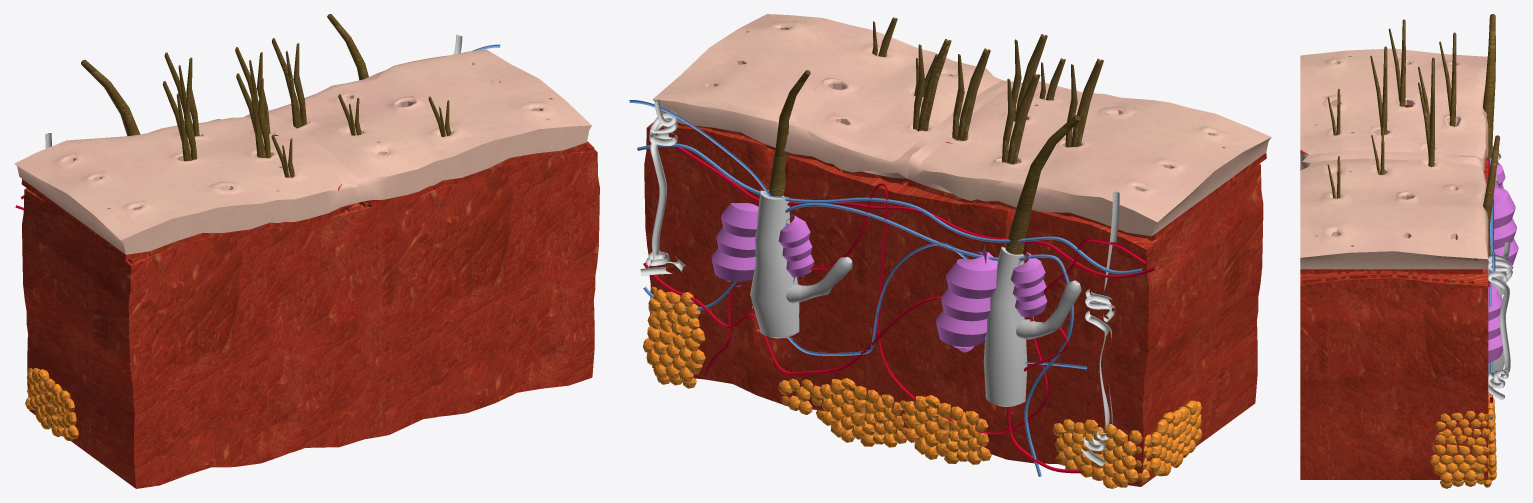
The picture shows the model from 3 angles, left to right: view 1: azimuth 30°, elevation 25°; view 2: azimuth 150°, elevation 25°; view 3: azimuth 270°, elevation 25°; orthographic projection. The views are drawn at different scales.
Parts seen in each view (by area): view 1: polySurface1, back_hair_woman1:polySurface1, polySurface5, polySurface4, polySurface3, pCylinder21, polySurface2, polySurface7, back_hair_woman1:pCylinder21; view 2: polySurface1, back_hair_woman1:polySurface1, pCylinder29, pCylinder23, pHelix1, back_hair_woman1:pHelix1, extrudedSurface2, back_hair_woman1:extrudedSurface1, extrudedSurface1, back_hair_woman1:extrudedSurface2, pCylinder21, back_hair_woman1:extrudedSurface6 (+13 smaller); view 3: back_hair_woman1:polySurface1, polySurface1, extrudedSurface2, pHelix1, pCylinder21, back_hair_woman1:pHelix1, polySurface2, polySurface5, back_hair_woman1:pCylinder21, polySurface4, polySurface3, polySurface7 (+4 smaller).
Part boxes in pixels (x1,y1,x2,y2): polySurface1: (22,141,599,488); back_hair_woman1:polySurface1: (14,49,591,260); polySurface5: (272,38,306,128); polySurface4: (236,73,271,158); polySurface3: (162,81,197,161); pCylinder21: (81,60,139,136); polySurface2: (164,52,199,137); polySurface7: (235,47,270,134); back_hair_woman1:pCylinder21: (327,14,368,80); polySurface1: (644,122,1263,486); back_hair_woman1:polySurface1: (652,14,1271,239); pCylinder29: (983,247,1027,406); pCylinder23: (750,190,799,338); pHelix1: (936,244,997,352); back_hair_woman1:pHelix1: (711,203,758,286); extrudedSurface2: (640,99,686,275); back_hair_woman1:extrudedSurface1: (703,183,1146,434); extrudedSurface1: (1081,191,1119,465); back_hair_woman1:extrudedSurface2: (643,203,1073,476); pCylinder21: (1005,115,1080,254); back_hair_woman1:extrudedSurface6: (637,143,1142,274); back_hair_woman1:polySurface1: (1300,48,1488,274); polySurface1: (1300,106,1488,479); extrudedSurface2: (1488,242,1513,400); pHelix1: (1493,180,1518,266); pCylinder21: (1483,14,1495,159); back_hair_woman1:pHelix1: (1488,285,1502,363); polySurface2: (1439,32,1456,126); polySurface5: (1418,73,1434,167); back_hair_woman1:pCylinder21: (1483,135,1499,262); polySurface4: (1370,46,1387,135); polySurface3: (1388,19,1405,106); polySurface7: (1418,57,1434,129).
Size of the model in its own units: 0.1566 by 0.1124 by 0.0685.
